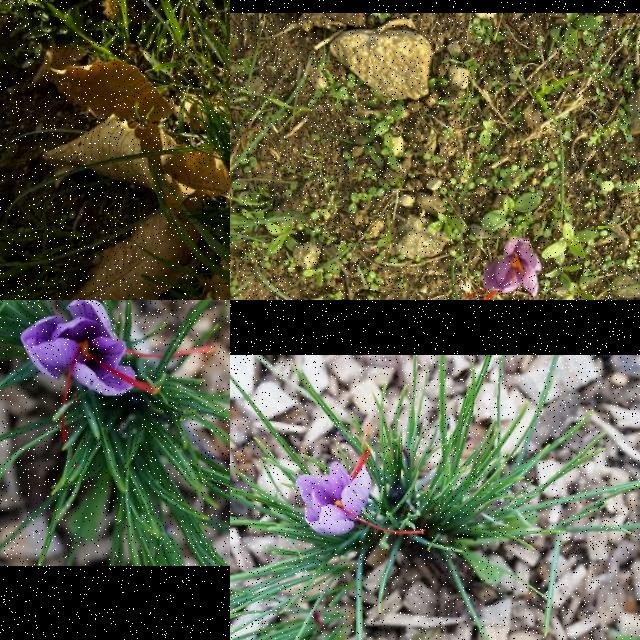flower: (20, 300, 218, 442), (295, 426, 425, 536), (466, 238, 544, 300)
